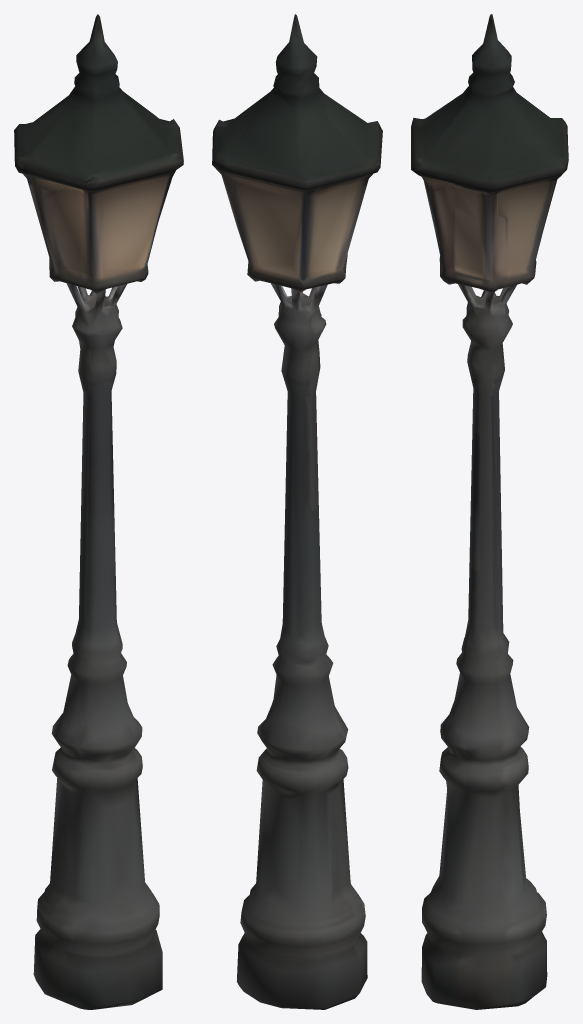
Rendered from Street_Lamp.fbx.
3 views of the same model, side by side, from view 1: azimuth 30°, elevation 25°; view 2: azimuth 150°, elevation 25°; view 3: azimuth 270°, elevation 25° (orthographic).
Parts seen in each view (by area): view 1: model.003; view 2: model.003; view 3: model.003.
Boxes of the visible parts, x1,y1,x2,y2 form: model.003: (14, 14, 183, 1009); model.003: (212, 14, 382, 1009); model.003: (411, 14, 568, 1009).
Size of the model in its own units: 31.63 by 180 by 26.41.
